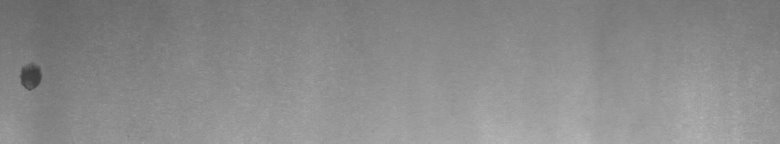fi: (15, 56, 48, 96)
